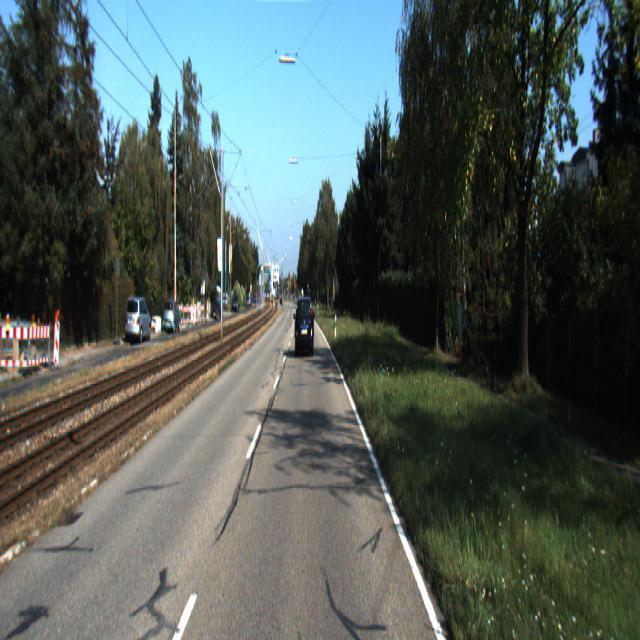Car: (124, 298, 153, 347), (296, 296, 314, 358), (163, 298, 181, 334)
